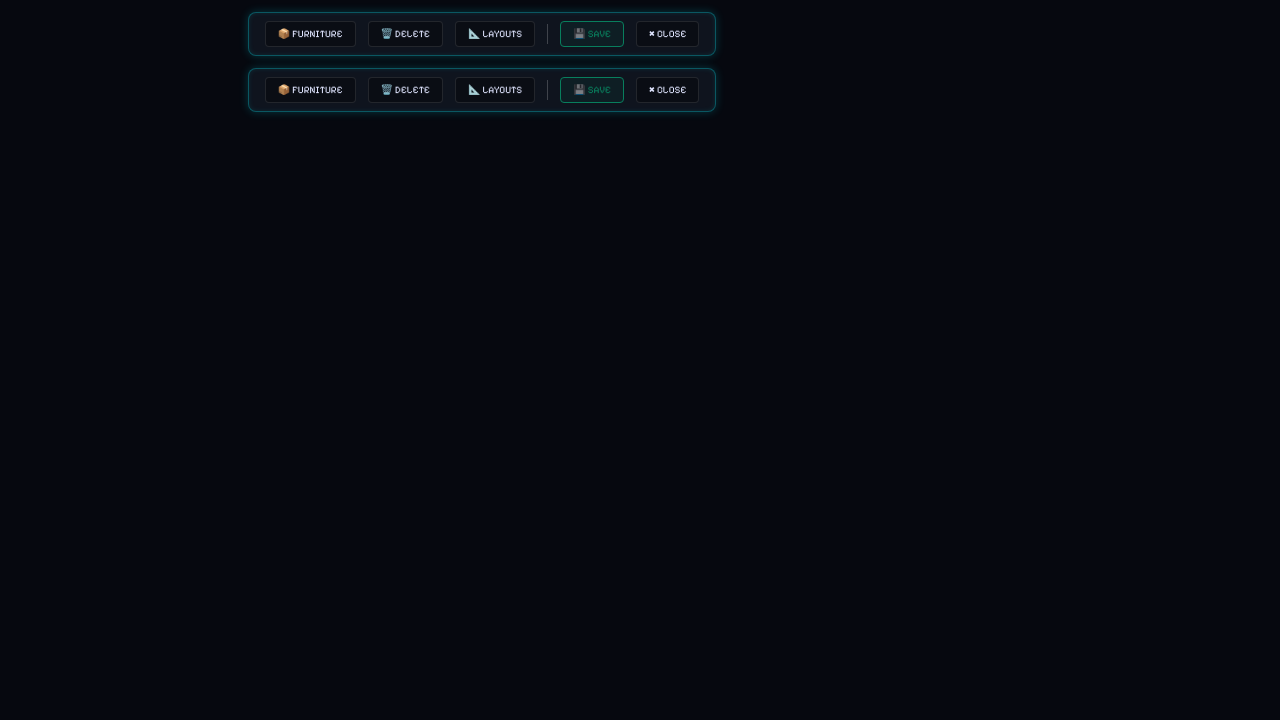
Scenario: LayoutEditor searchable furniture palette › gives each editor unique disclosure relationships only while the panels are mounted
Click the 1st button titled "Furniture palette" at (310, 34), box [265,21,356,47]
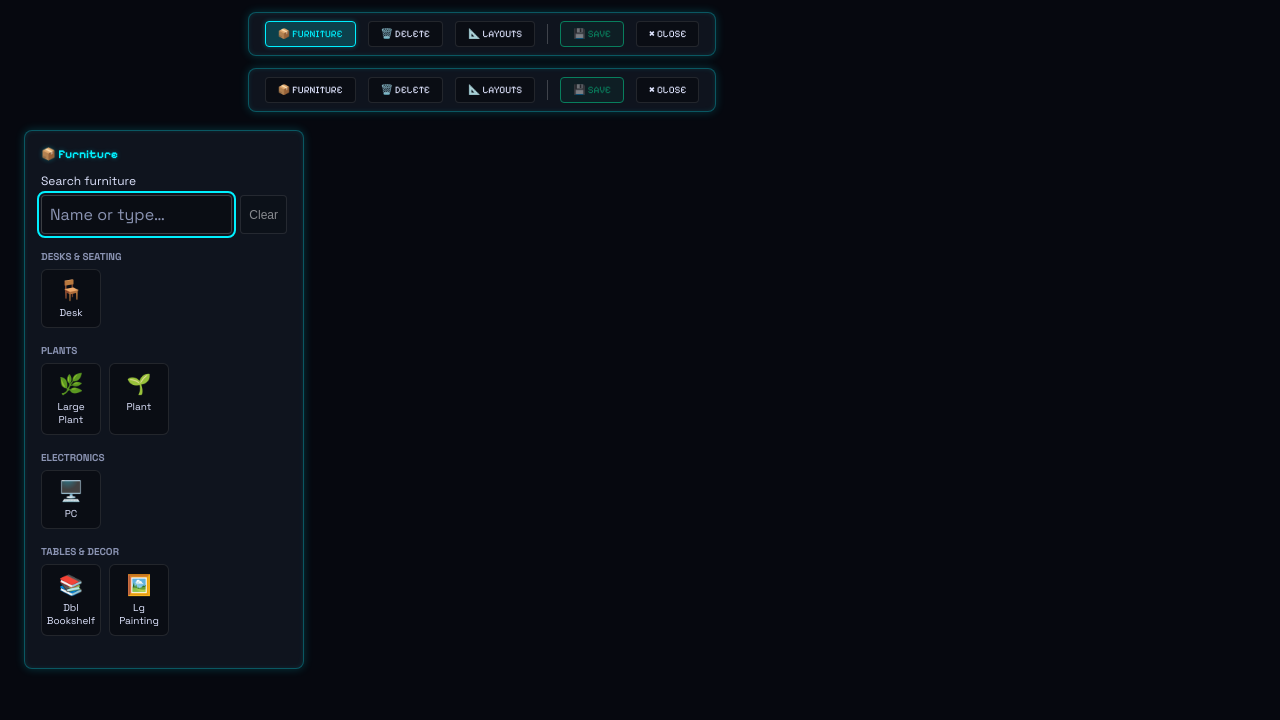
Expected: the 1st button titled "Furniture palette" is expanded, [265,21,356,47]
Click the 1st button titled "Layout manager" at (495, 34), box [455,21,535,47]
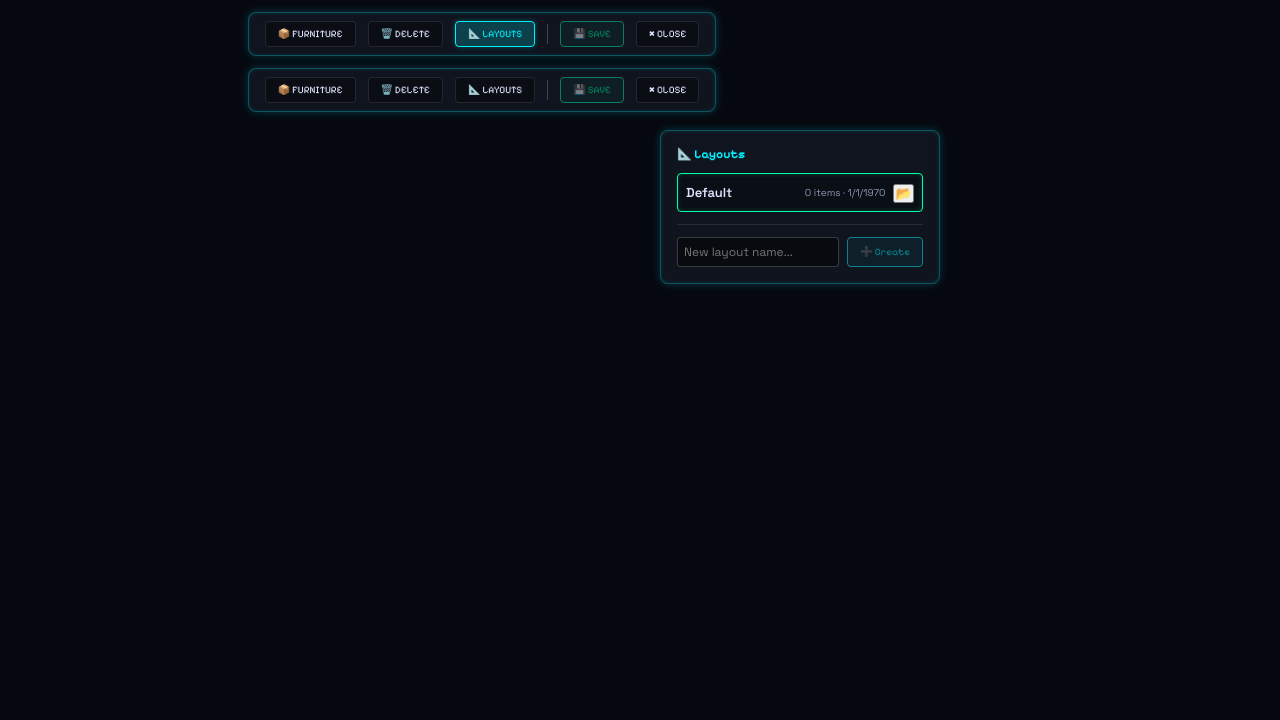
Expected: the 1st button titled "Furniture palette" is collapsed, [265,21,356,47]
Expected: the 1st button titled "Layout manager" is expanded
Click the 1st button titled "Layout manager" at (495, 34), box [455,21,535,47]
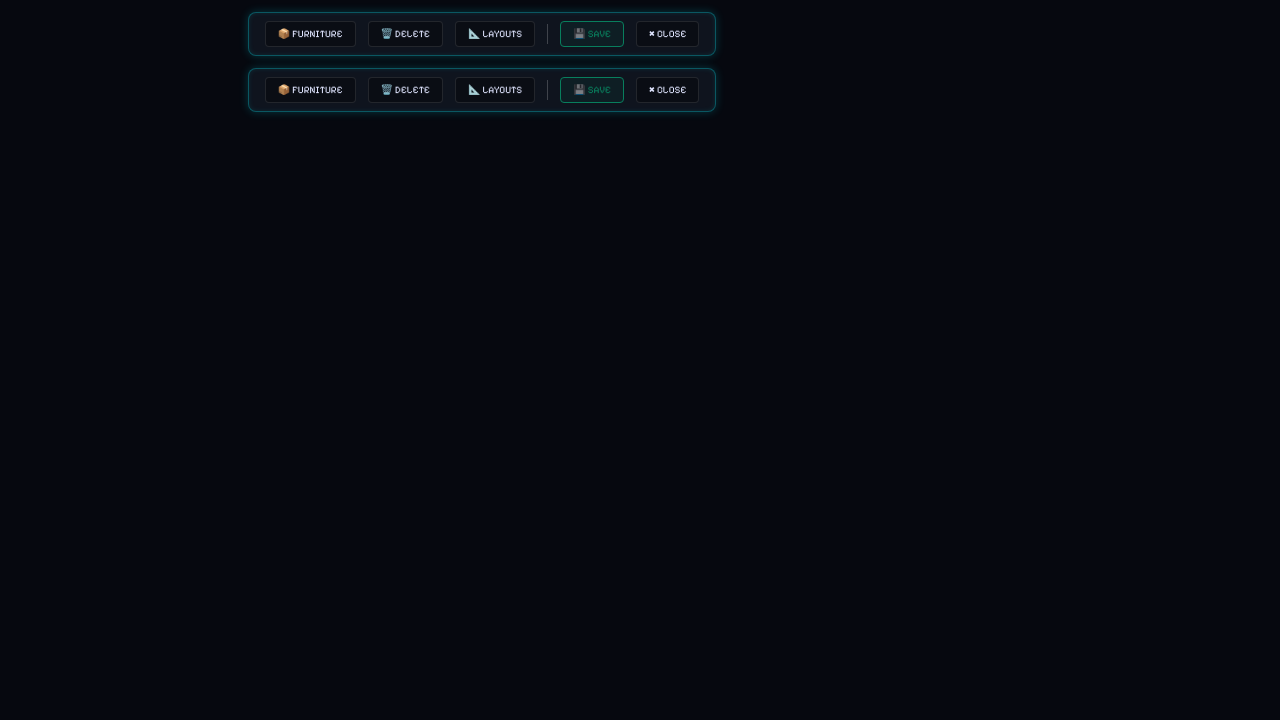
Expected: the field labelled "New layout name" is not shown
Expected: the 1st button titled "Layout manager" is collapsed, [455,21,535,47]
Click the 2nd button titled "Furniture palette" at (310, 90), box [265,77,356,103]
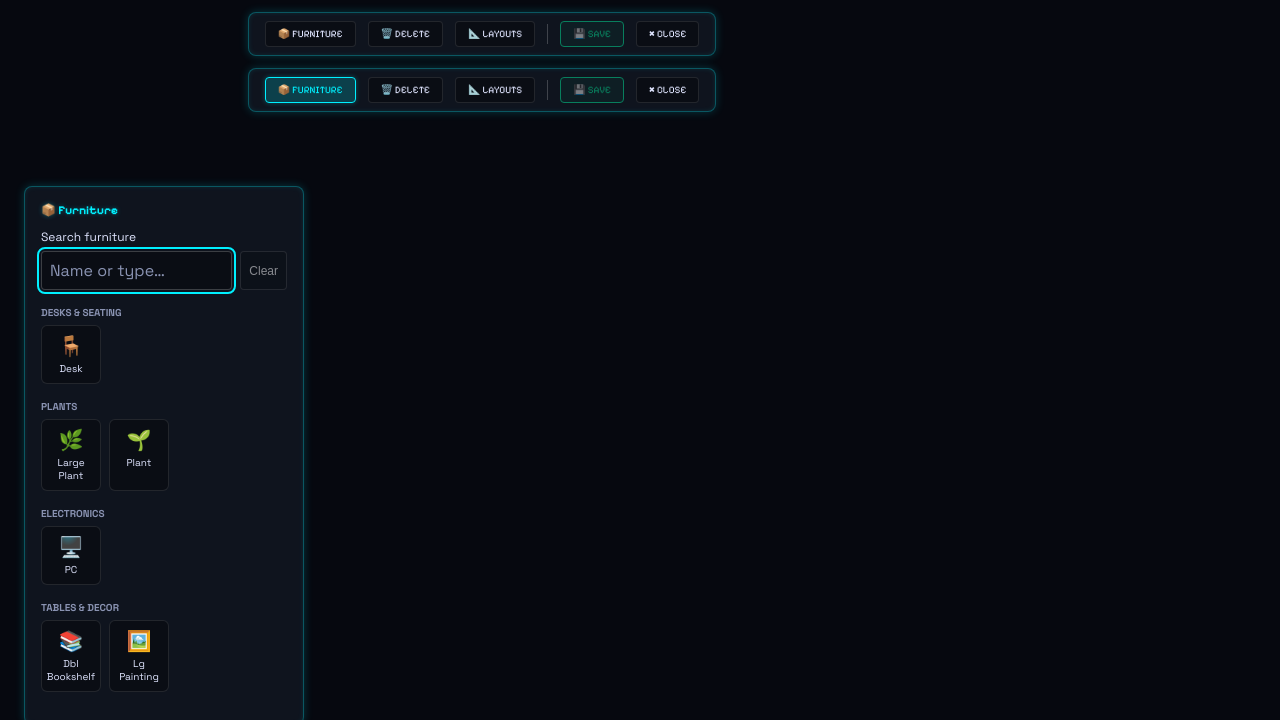
Expected: the 2nd button titled "Furniture palette" is expanded, [265,77,356,103]
Click the 2nd button titled "Layout manager" at (495, 90), box [455,77,535,103]
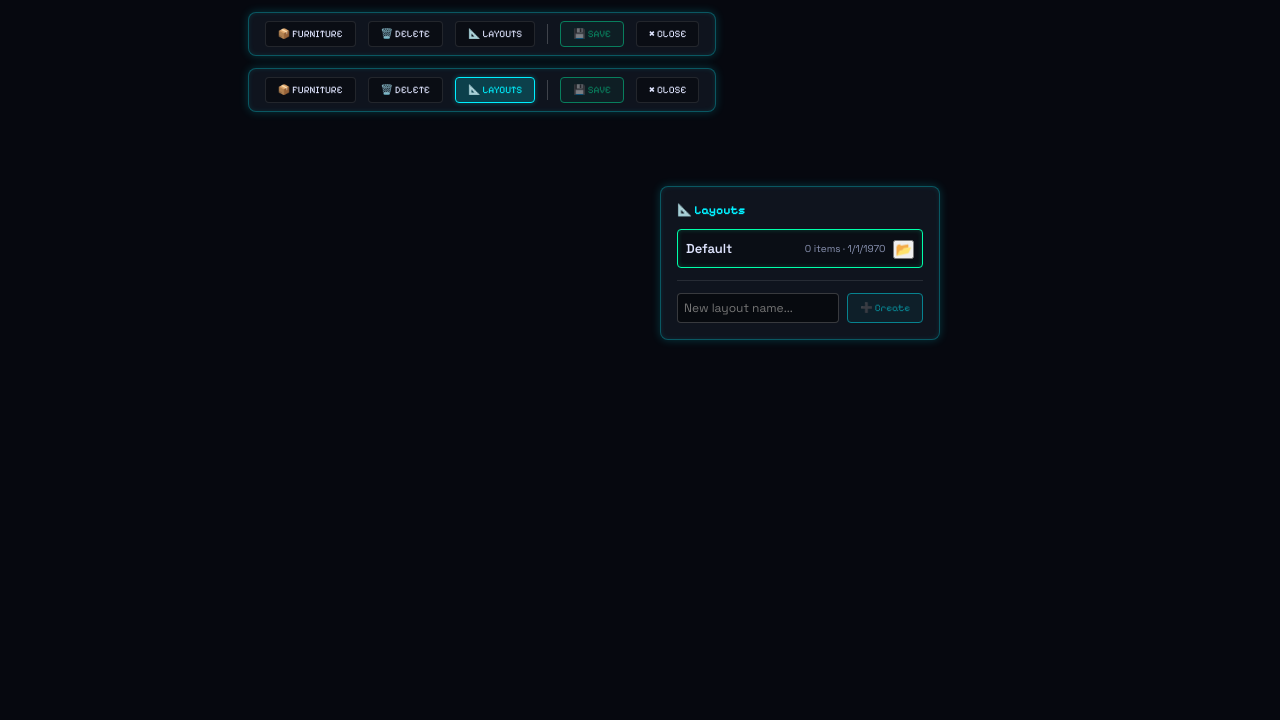
Expected: the 2nd button titled "Furniture palette" is collapsed, [265,77,356,103]
Expected: the 2nd button titled "Layout manager" is expanded
Click the 2nd button titled "Layout manager" at (495, 90), box [455,77,535,103]
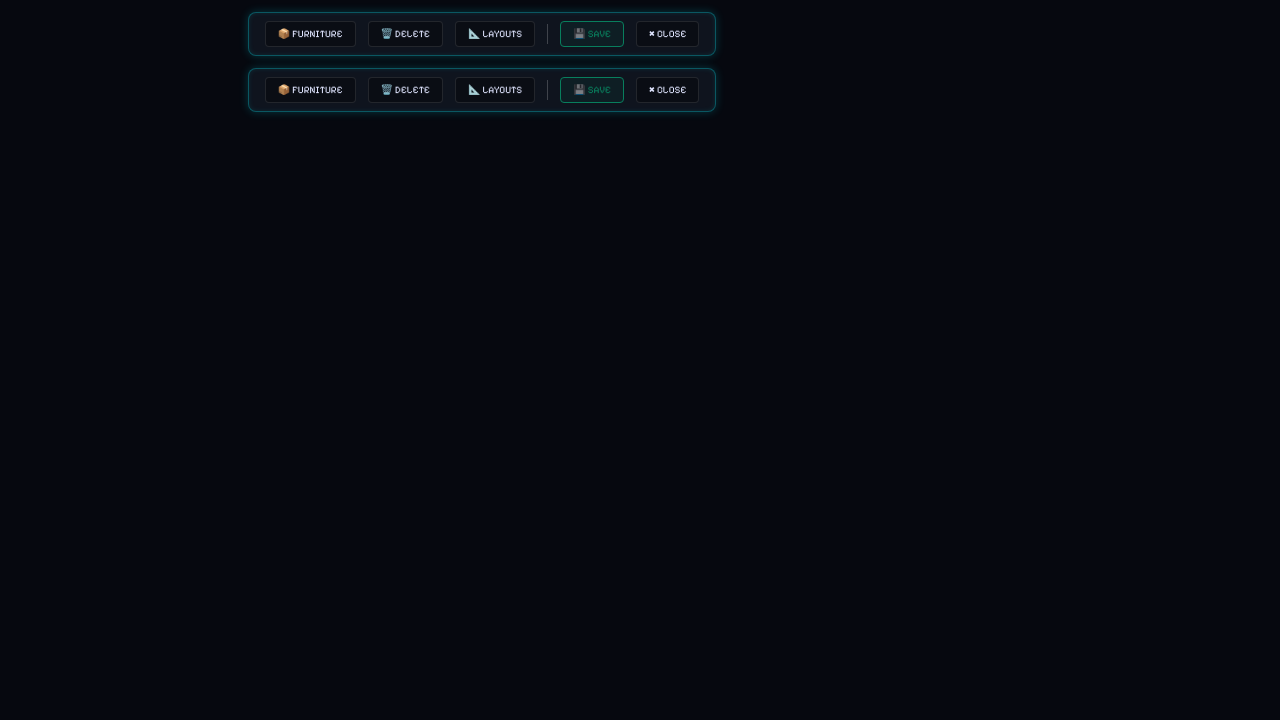
Expected: the field labelled "New layout name" is not shown
Expected: the 2nd button titled "Layout manager" is collapsed, [455,77,535,103]
